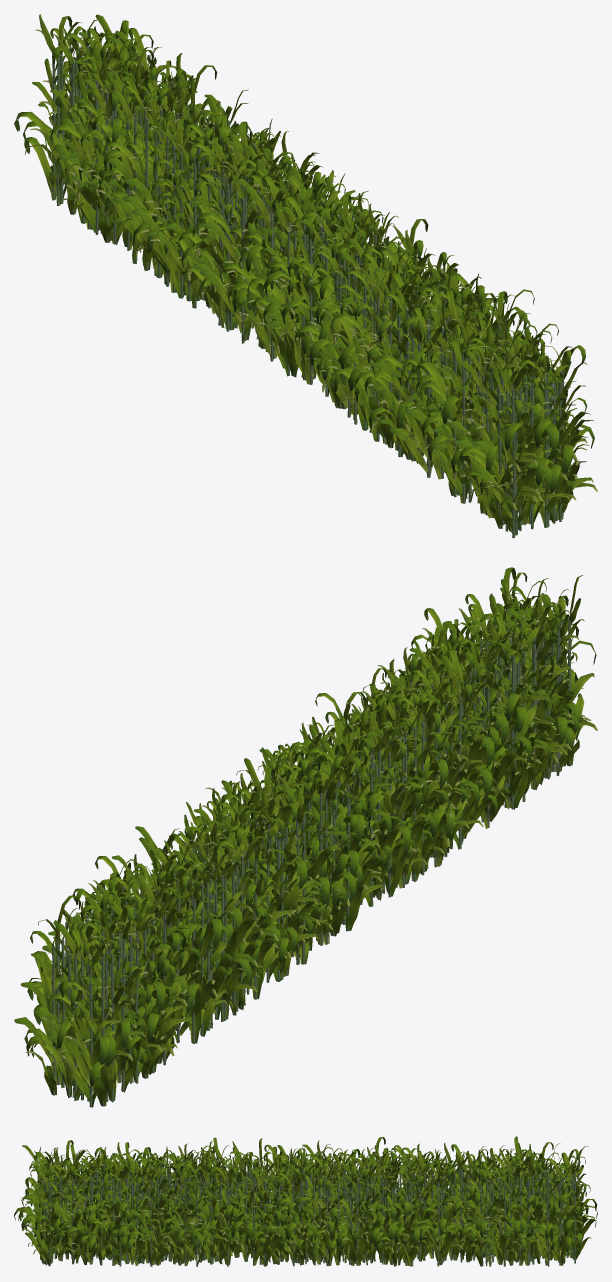
File: milharal4x50_denso5.fbx
3 views of the same model, one above another, from view 1: azimuth 30°, elevation 25°; view 2: azimuth 150°, elevation 25°; view 3: azimuth 270°, elevation 25° (orthographic). The views are drawn at different scales.
Visible parts, largest first — view 1: Plantacao2; view 2: Plantacao2; view 3: Plantacao2.
Boxes of the visible parts, <box> form: Plantacao2: <box>14,14,597,538</box>; Plantacao2: <box>14,567,597,1107</box>; Plantacao2: <box>14,1136,597,1266</box>.
Size of the model in its own units: 863 by 1103 by 5398.
